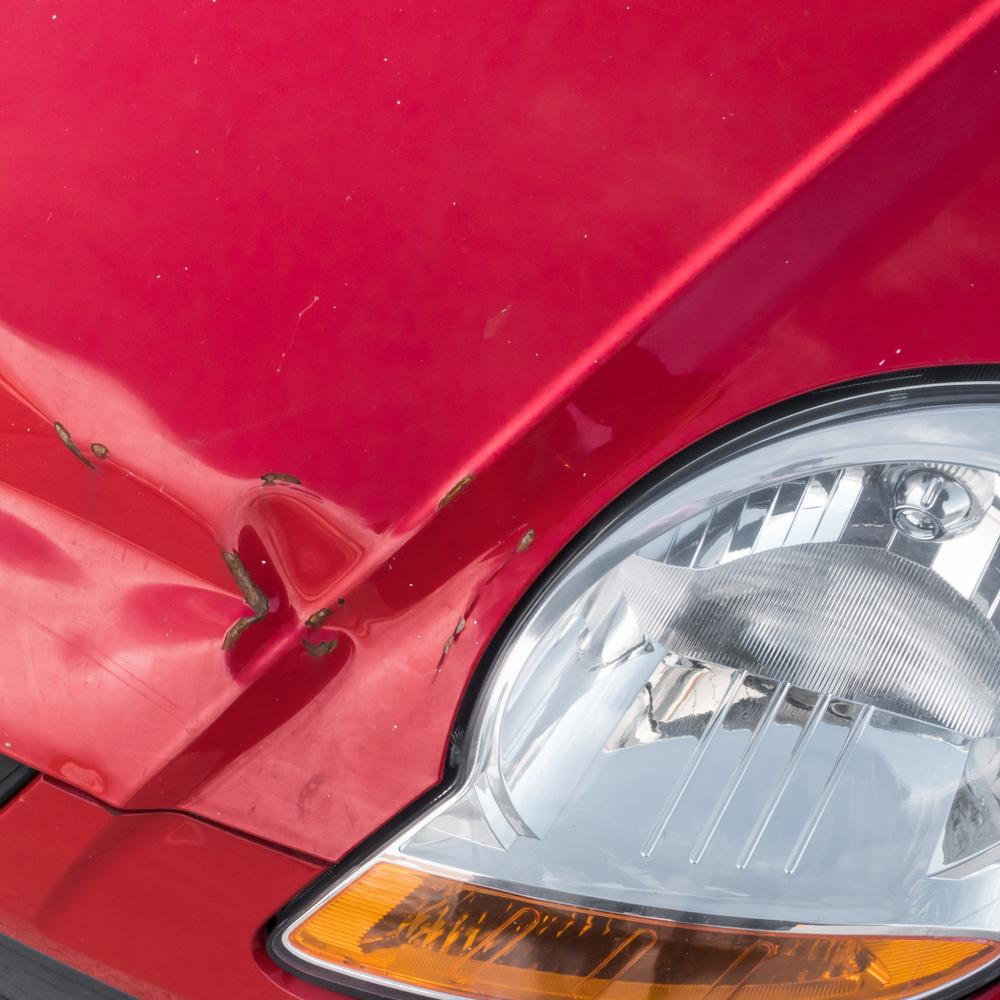dent: (0, 319, 503, 854)
